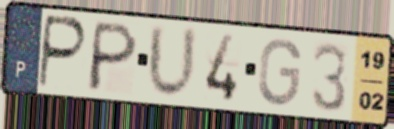3: (310, 39, 348, 115)
4: (202, 31, 240, 104)
G: (255, 36, 304, 109)
P: (84, 19, 141, 95), (36, 13, 90, 92)
U: (145, 21, 200, 103)
